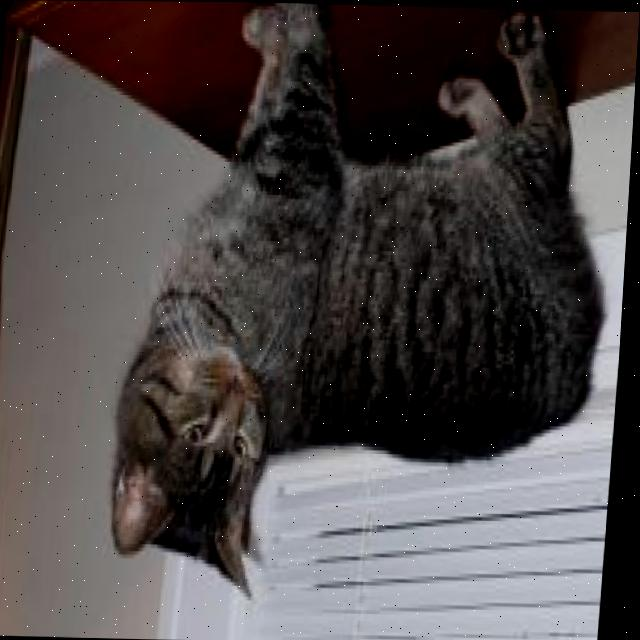American Bobtail: (102, 1, 628, 614)
